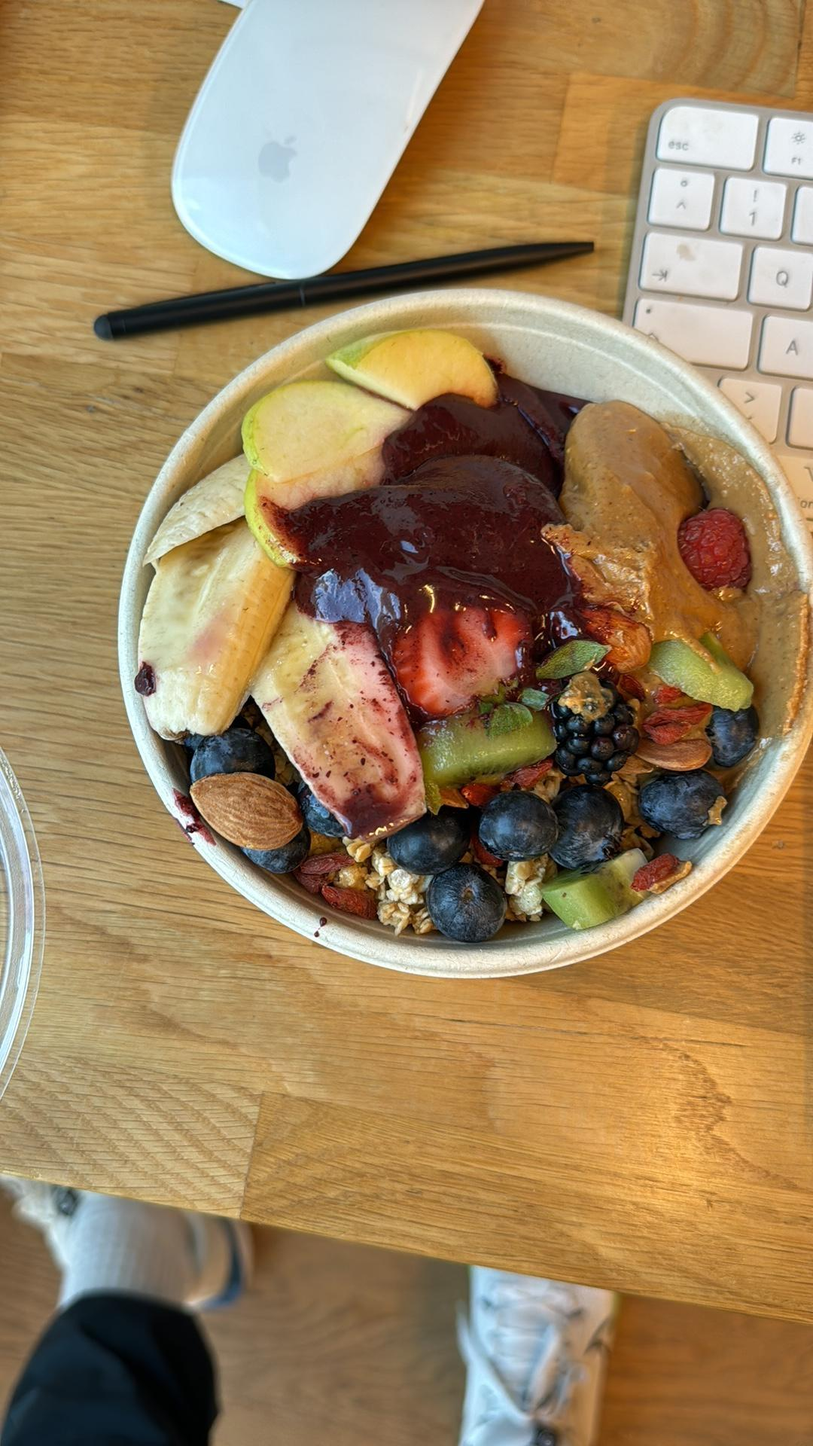almond: (174, 778, 307, 850), (582, 605, 650, 673)
apple: (254, 444, 384, 566), (336, 329, 501, 413), (244, 377, 396, 465)
banana: (137, 450, 272, 738), (258, 604, 430, 815)
blackberry: (553, 680, 632, 780)
blueberry: (429, 867, 513, 942), (547, 784, 621, 864), (638, 772, 720, 839), (184, 732, 266, 799), (481, 786, 553, 860), (388, 804, 464, 871), (700, 703, 763, 759), (239, 828, 312, 874), (295, 783, 347, 845)
kiwi: (422, 685, 547, 792), (653, 635, 761, 707), (536, 865, 632, 933)
raspberry: (682, 500, 742, 584)
strawberry: (391, 587, 534, 706)
